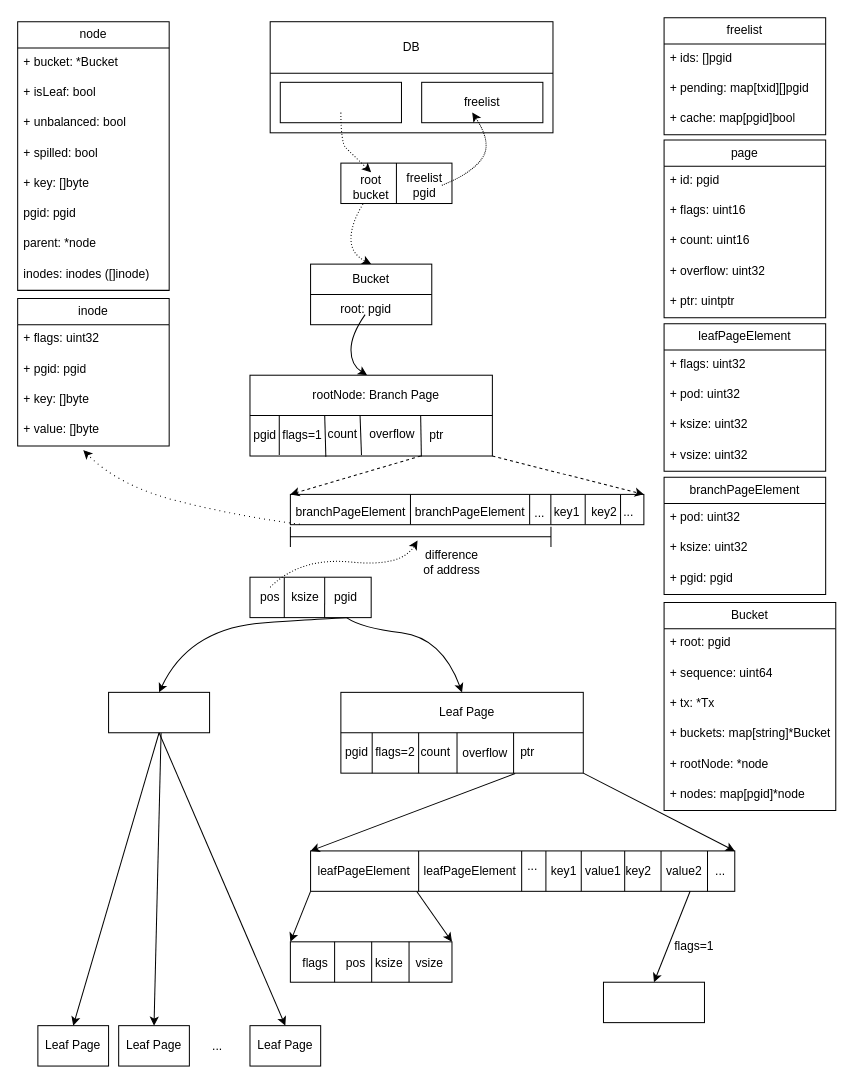
This 853x1084 diagram has some shape labels left out. Each missing label, with the centre of its shape:
"BranchPage" goes at (159,712).
"meta" goes at (340,102).
"Sub-Bucket" goes at (653,1002).
